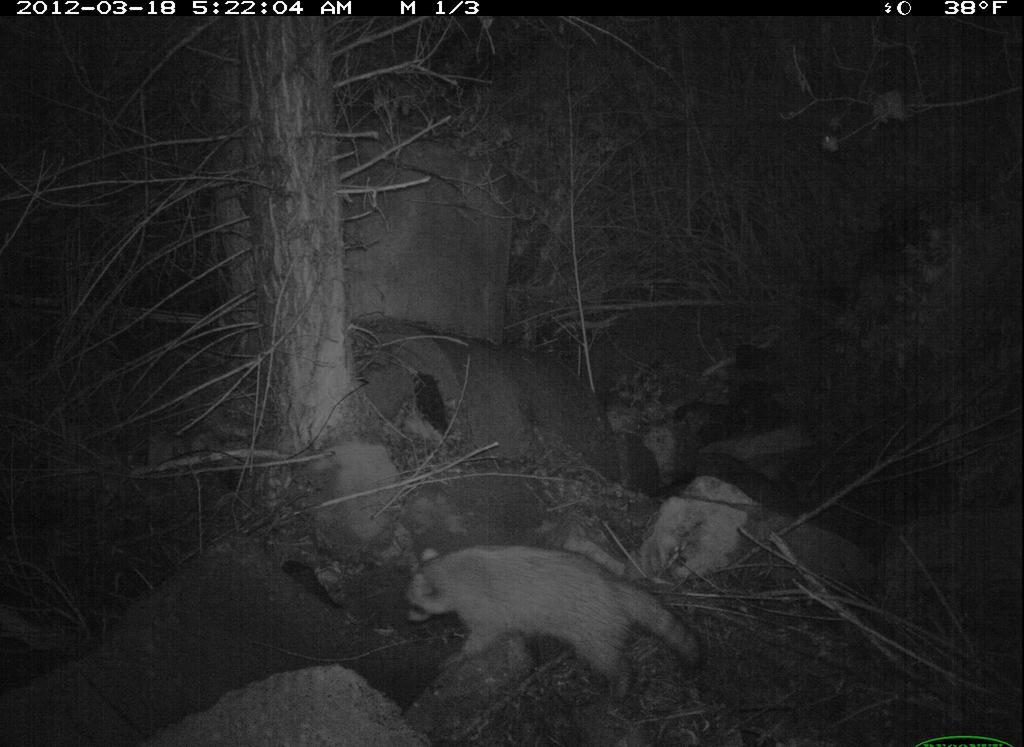raccoon: (396, 537, 707, 692)
